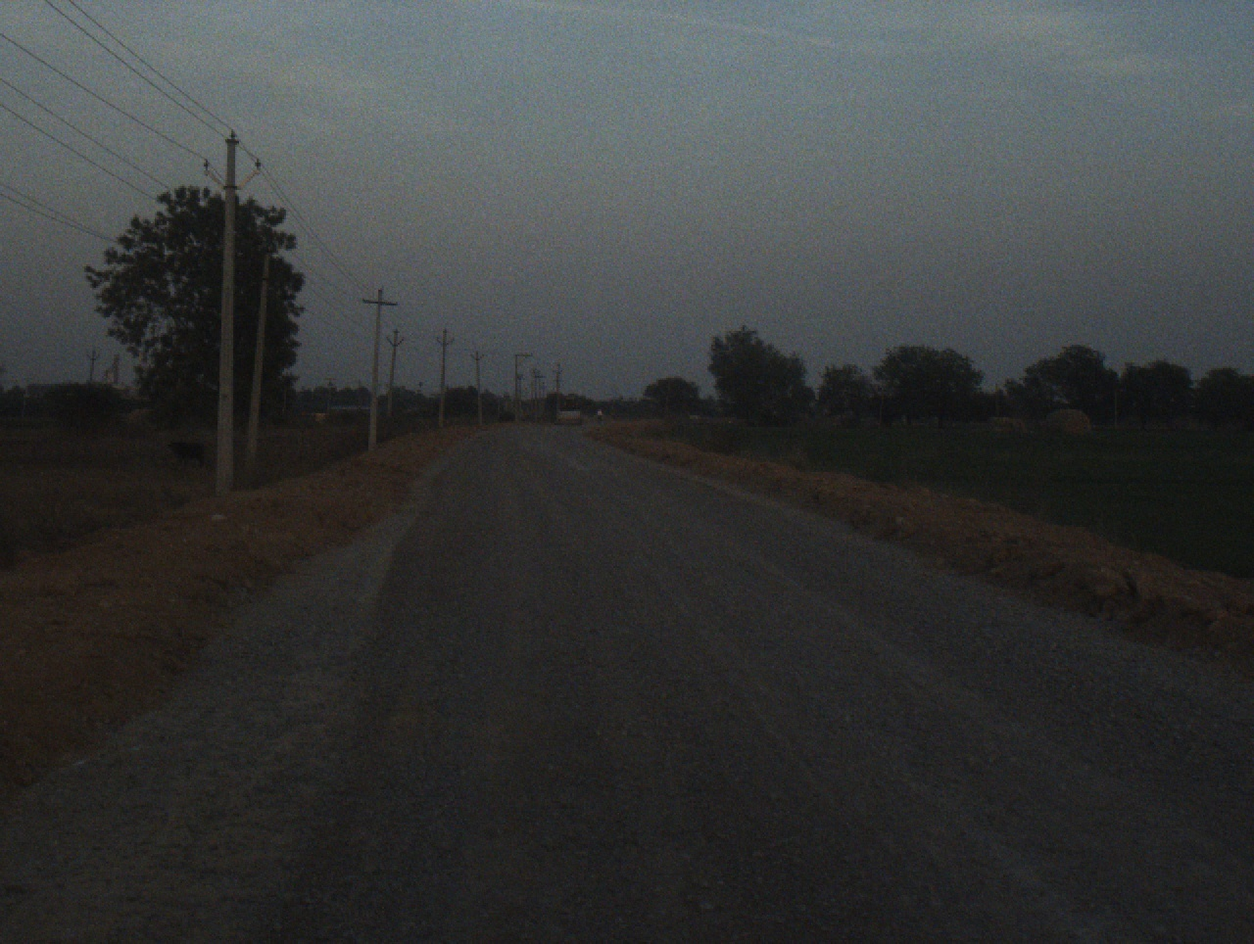vehicle fallback: (548, 395, 585, 424)
